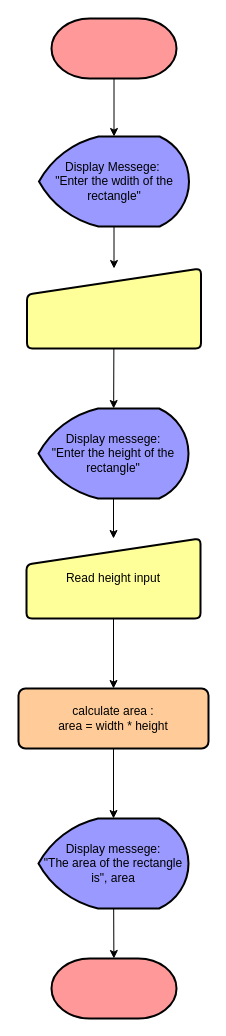
The diagram is 226 pixels wide and 1036 high, and some of its shapes have lost their labels. The shapes that lost their labels are listed below. From the top down, each one's box as (x1, y1, x2, y2) in pixels, then its label:
(50, 17, 177, 79): Start
(26, 267, 202, 349): Read width input
(50, 957, 177, 1019): Stop
